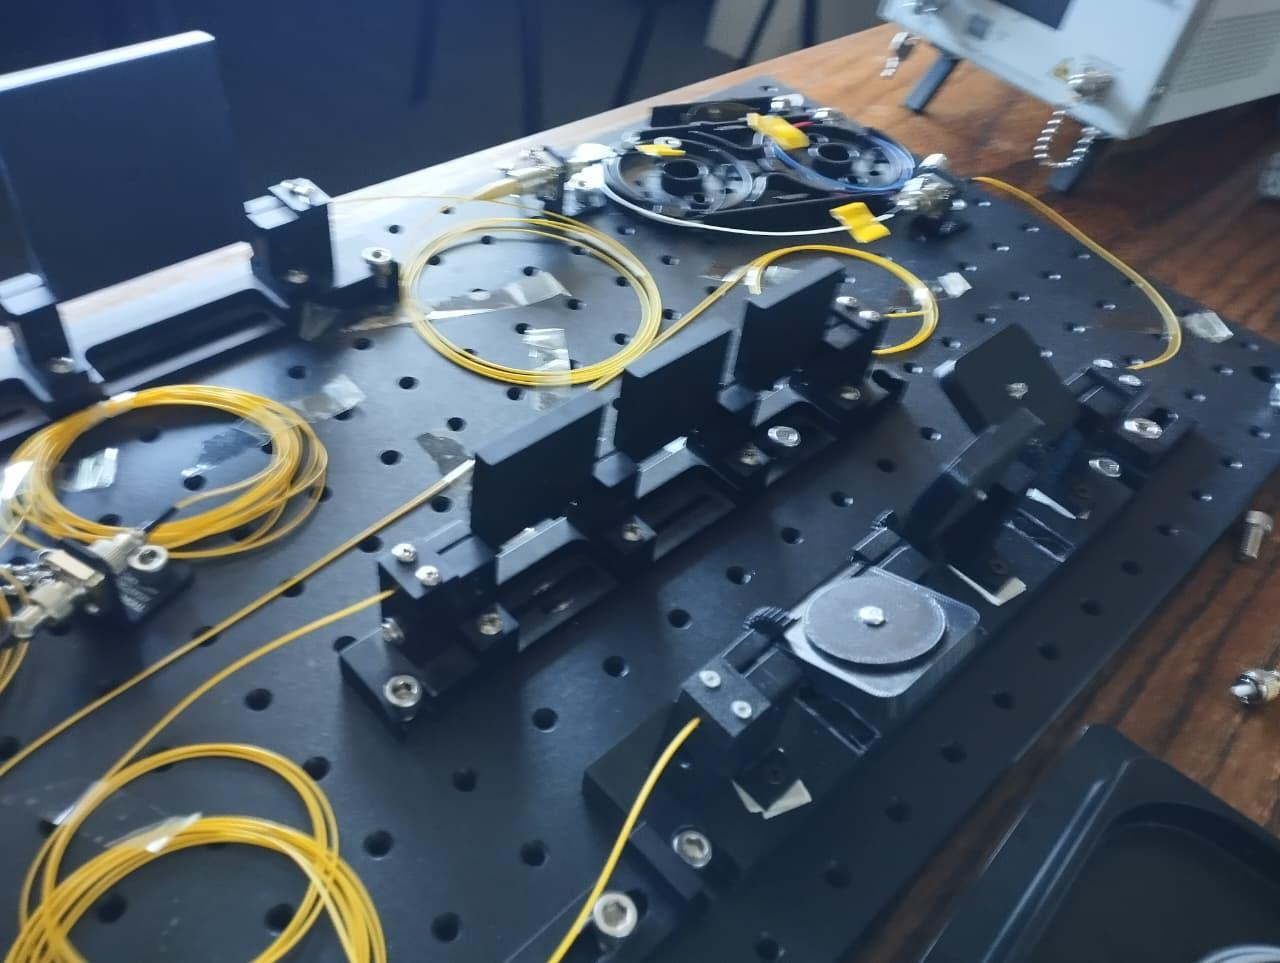fiber_cable: (25, 735, 397, 963), (19, 367, 344, 588), (391, 192, 685, 399), (741, 211, 950, 381)
laser: (846, 0, 1279, 220)
paddle_polarization_controller: (573, 309, 1204, 917), (327, 233, 924, 759)
